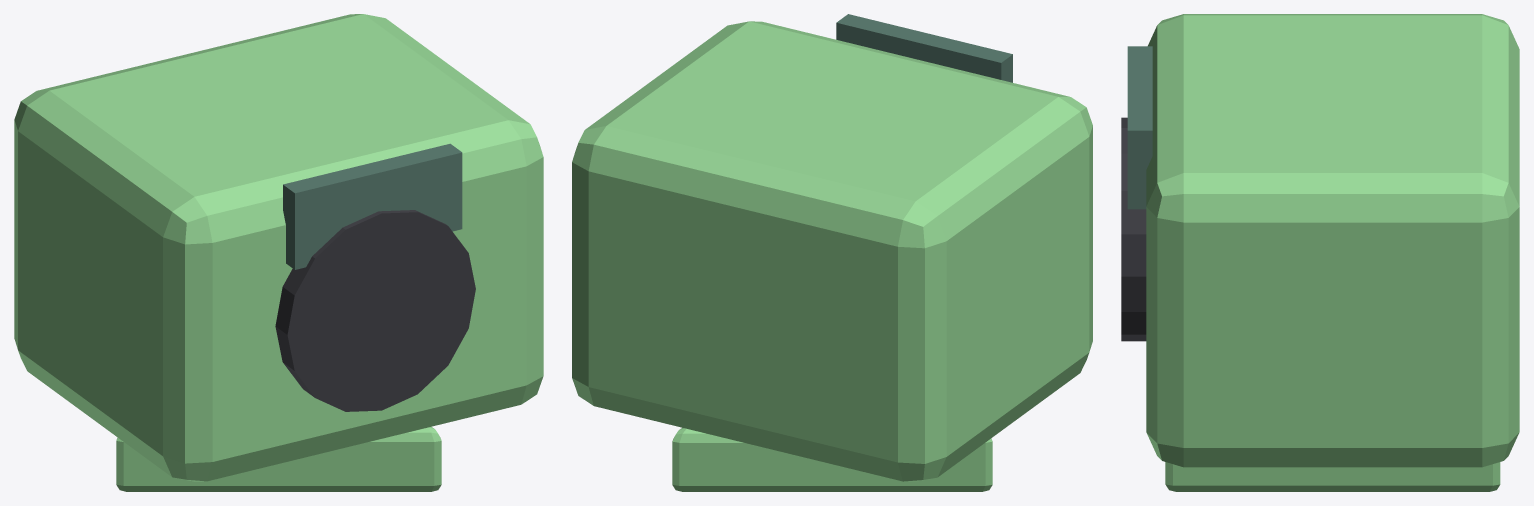
File: part_speaker.fbx
3 renders of one model, left to right at view 1: azimuth 30°, elevation 25°; view 2: azimuth 150°, elevation 25°; view 3: azimuth 270°, elevation 25°, orthographic. The views are drawn at different scales.
Parts seen in each view (by area): view 1: part_speaker; view 2: part_speaker; view 3: part_speaker.
Part boxes in pixels (x1,y1,x2,y2): part_speaker: (14, 14, 543, 491); part_speaker: (572, 14, 1092, 491); part_speaker: (1121, 14, 1519, 491).
Size of the model in its own units: 0.036 by 0.0325 by 0.032.
